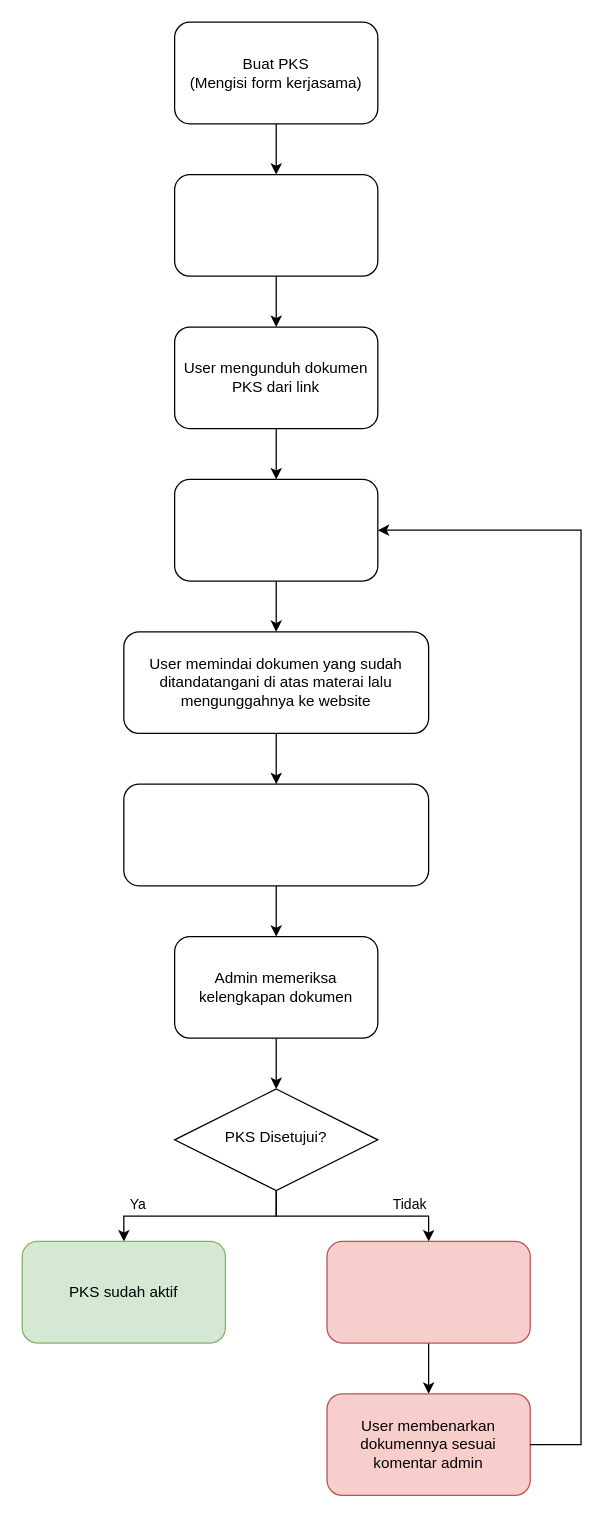
Image size: 613x1518. Some labels were removed from this diagram. The centre of each missing label's shape, as x and y in pixels:
"Admin memberi komentar alasan tidak disetujui" belongs at [428,1291].
"User mencetak dokumen sebanyak 2 kali" belongs at [275,529].
"User menerima Email dari sistem" belongs at [275,224].
"User menyerahkan kedua dokumen yang sudah ditandatangani di atas materai ke LPPM" belongs at [276,834].
